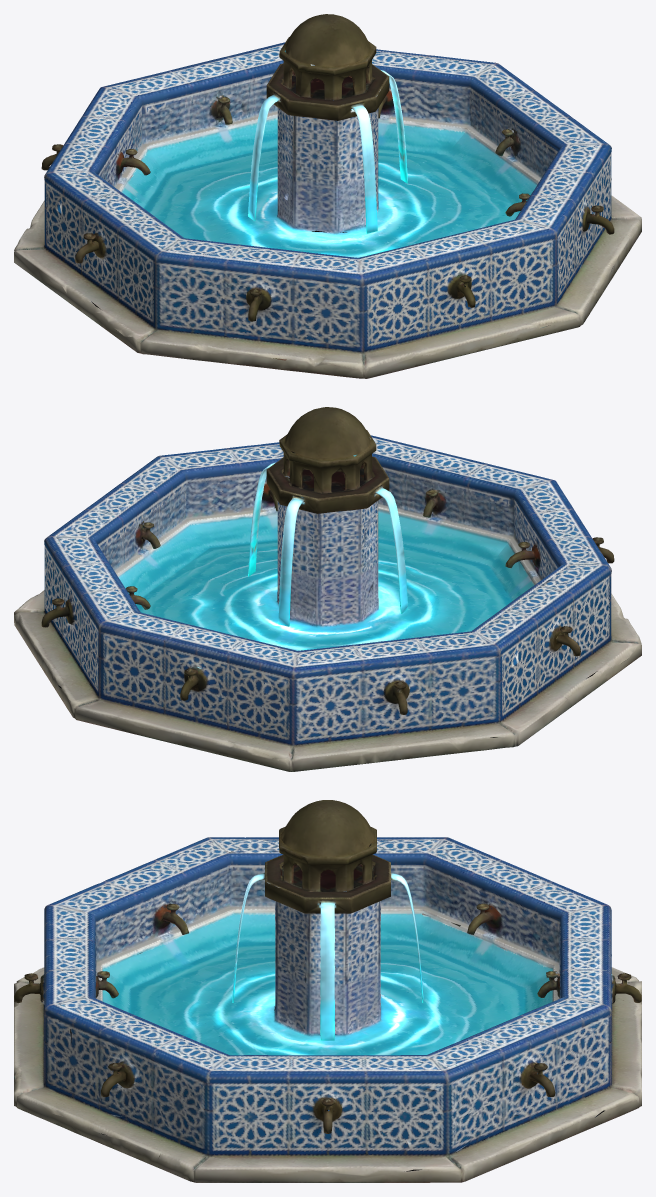
Rendered from Blue_Mosaic_Octagonal.fbx.
3 renders of one model, top to bottom at view 1: azimuth 30°, elevation 25°; view 2: azimuth 150°, elevation 25°; view 3: azimuth 270°, elevation 25°, orthographic. The views are drawn at different scales.
Visible parts, largest first — view 1: Blue_Mosaic_Octagonal_LOD0; view 2: Blue_Mosaic_Octagonal_LOD0; view 3: Blue_Mosaic_Octagonal_LOD0.
Boxes of the visible parts, <box> form: Blue_Mosaic_Octagonal_LOD0: <box>14,14,641,378</box>; Blue_Mosaic_Octagonal_LOD0: <box>14,407,641,771</box>; Blue_Mosaic_Octagonal_LOD0: <box>14,800,641,1182</box>.
Size of what is drawn, in the model's own units: 1.9 by 0.8227 by 1.9.
1 material, 1 textured.
